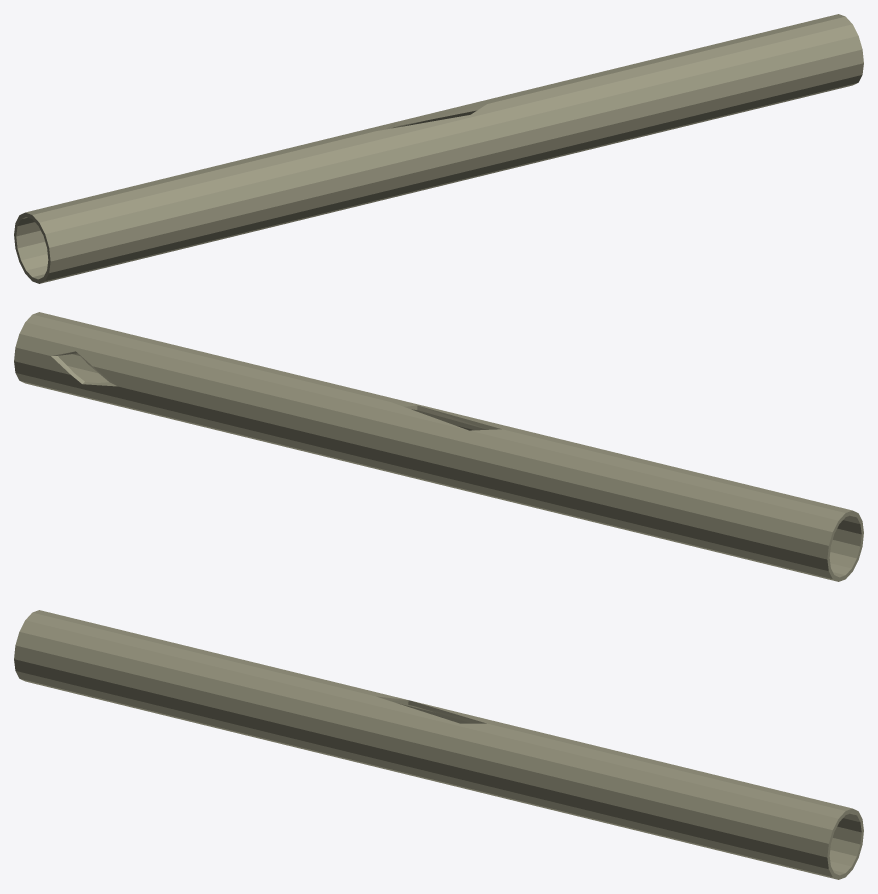
3 renders of one model, top to bottom at view 1: azimuth 30°, elevation 25°; view 2: azimuth 150°, elevation 25°; view 3: azimuth 330°, elevation 25°, orthographic.
Visible parts, largest first — view 1: Tube_ver; view 2: Tube_ver; view 3: Tube_ver.
Boxes of the visible parts, x1,y1,x2,y2 form: Tube_ver: (14, 14, 863, 283); Tube_ver: (14, 312, 863, 581); Tube_ver: (14, 610, 863, 879).
Size of the model in its own units: 27.16 by 2.12 by 2.12.
